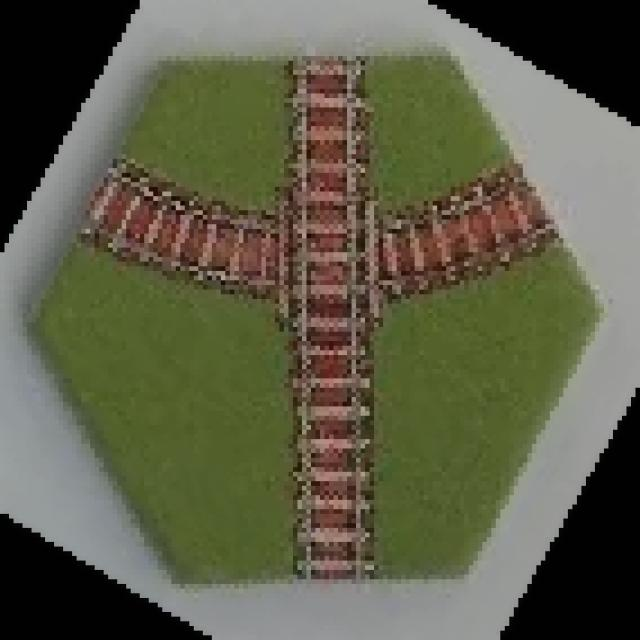8_4: (28, 57, 604, 584)
